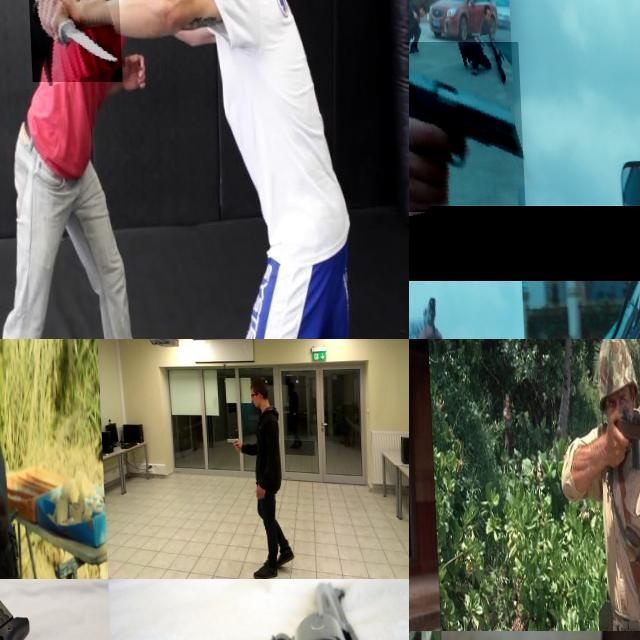-: (27, 0, 120, 82)
gun-knife-thesis - v11 Yolov5 augmented: (409, 41, 523, 212), (409, 409, 497, 572), (590, 387, 640, 507), (0, 373, 31, 551), (409, 290, 440, 339), (221, 433, 238, 450)
